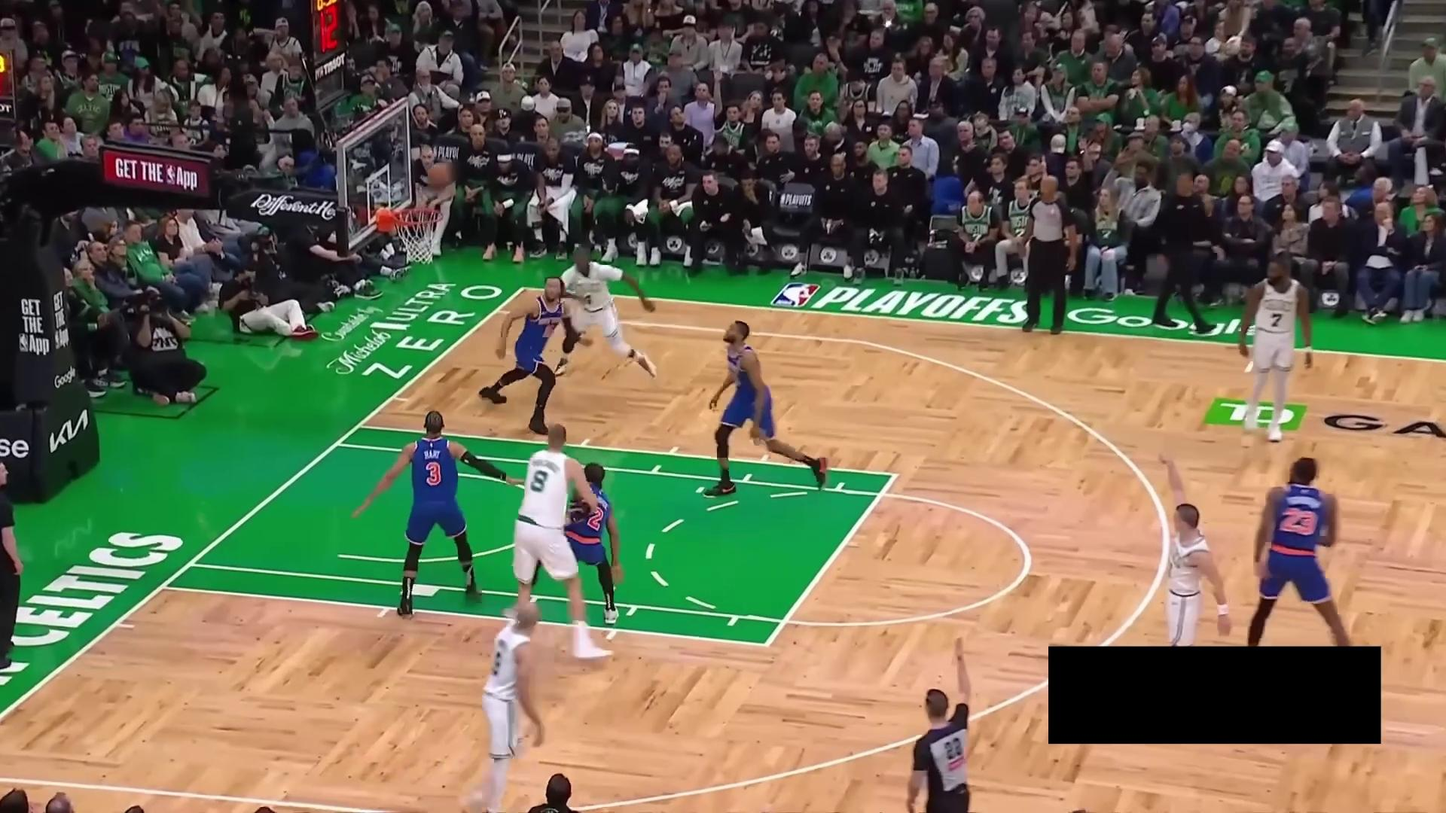ball: (427, 162, 452, 189)
number: (1277, 505, 1320, 537), (586, 505, 605, 532), (530, 467, 549, 493), (423, 460, 441, 486), (1271, 312, 1283, 328), (583, 292, 593, 306)
player: (348, 409, 525, 618), (508, 424, 616, 661), (701, 319, 828, 496), (505, 460, 633, 627), (1246, 454, 1354, 646), (478, 275, 596, 435), (472, 598, 547, 813), (1156, 448, 1234, 646), (550, 246, 658, 380), (1237, 253, 1313, 443)
referee: (900, 629, 988, 813), (1014, 172, 1079, 336), (0, 453, 34, 669)
rim: (392, 206, 444, 225)
